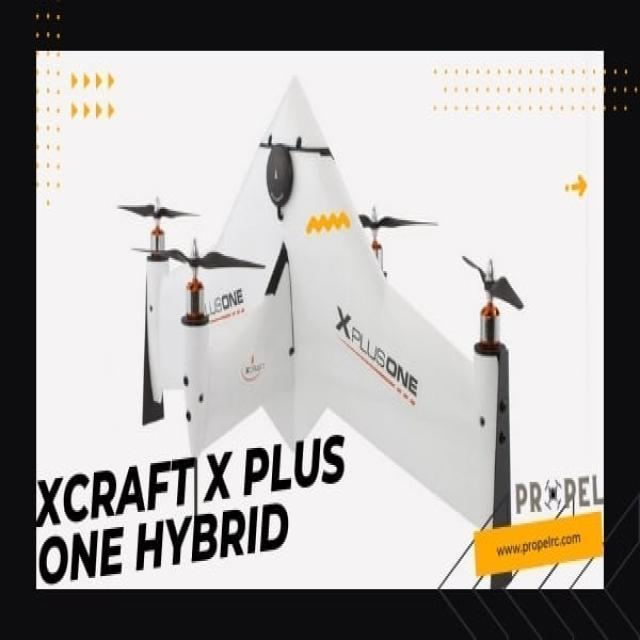iha: (130, 56, 520, 440)
